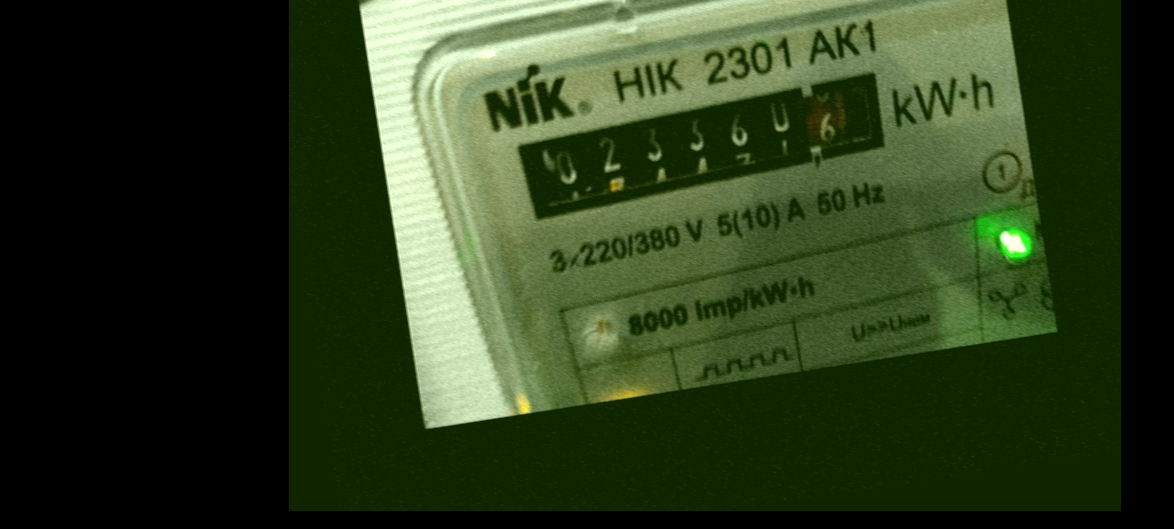0: (550, 143, 582, 188), (766, 95, 794, 135)
2: (593, 130, 625, 173)
3: (639, 121, 666, 164), (680, 113, 708, 154)
6: (722, 106, 754, 150), (815, 106, 841, 145)
screen: (491, 55, 905, 233)
